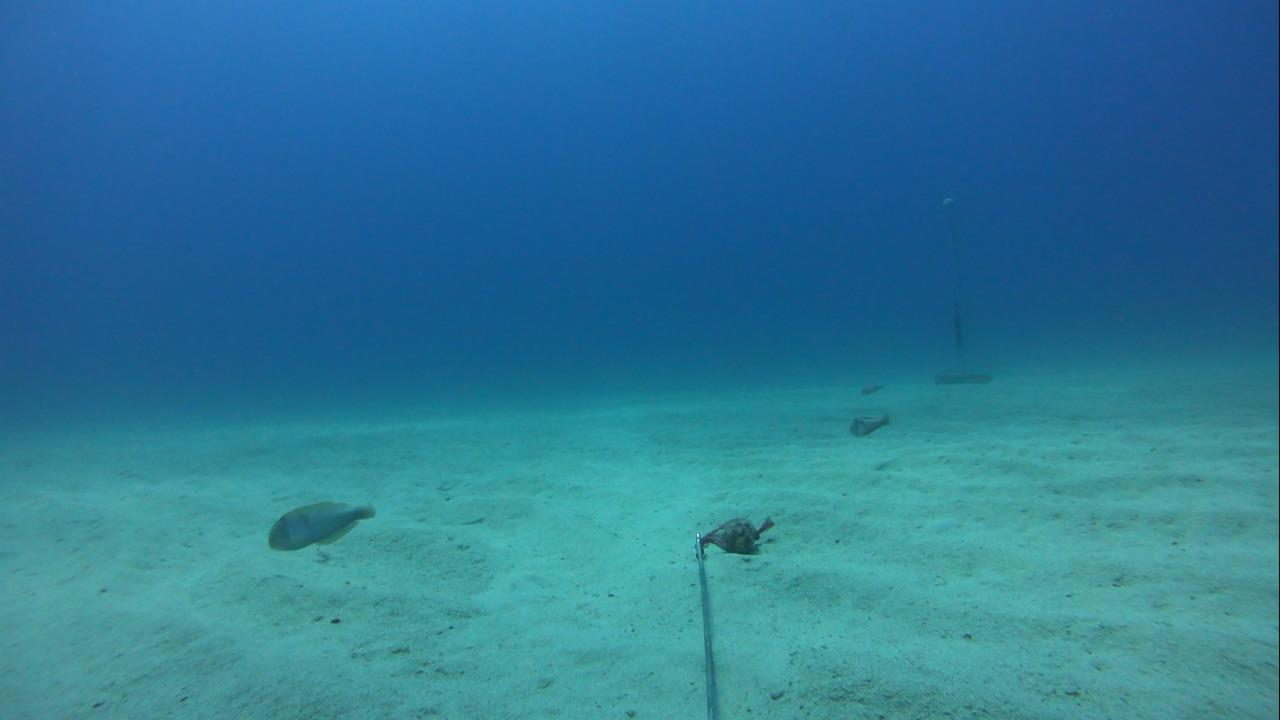raor: (262, 492, 377, 556), (845, 403, 899, 442)
